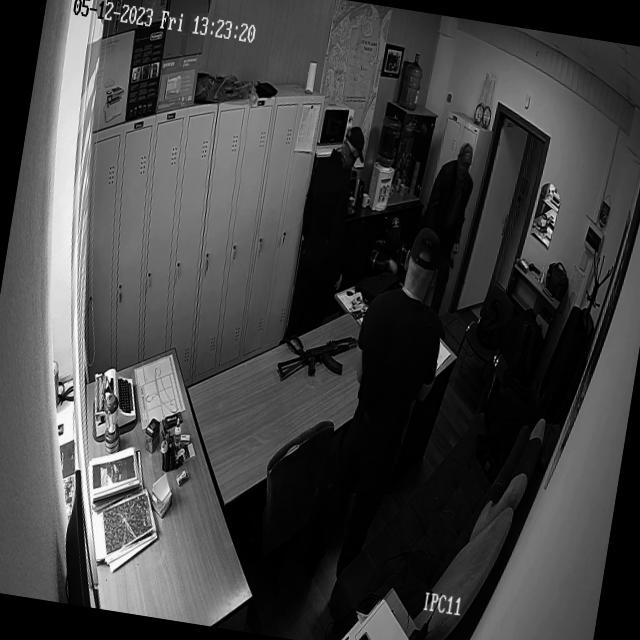gun: (273, 314, 368, 398)
person: (282, 109, 373, 328), (411, 136, 501, 262)
person with a gun: (331, 206, 456, 532)
